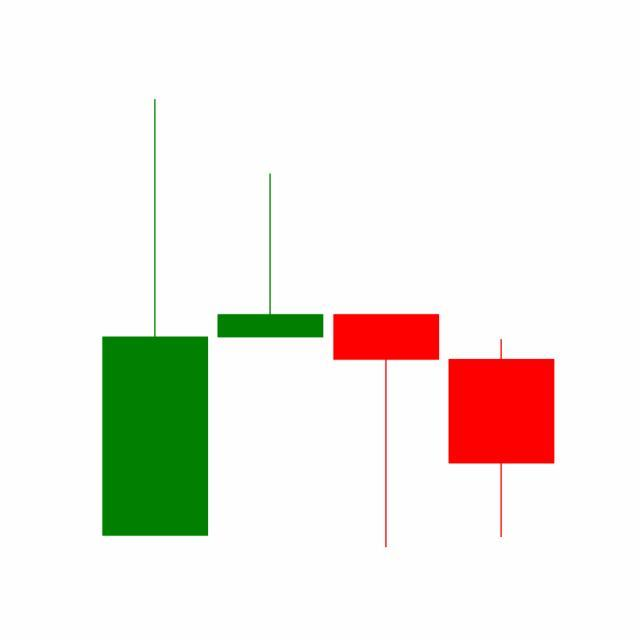Hammer: (329, 312, 445, 551)
